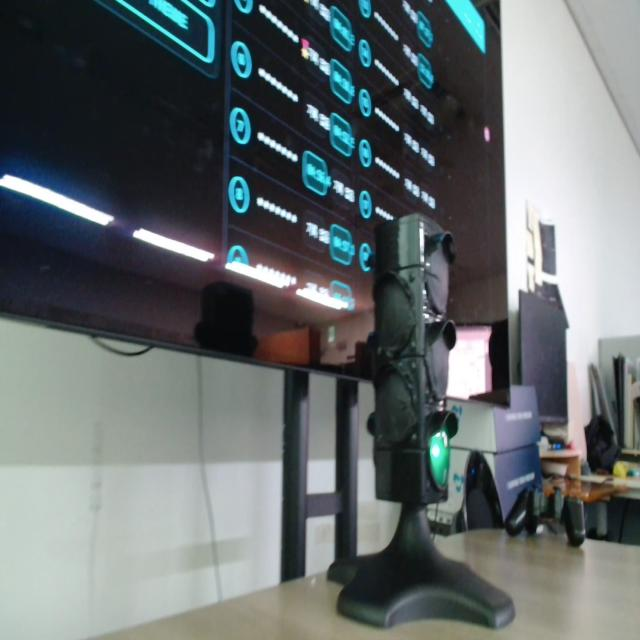green_light: (430, 431, 449, 488)
